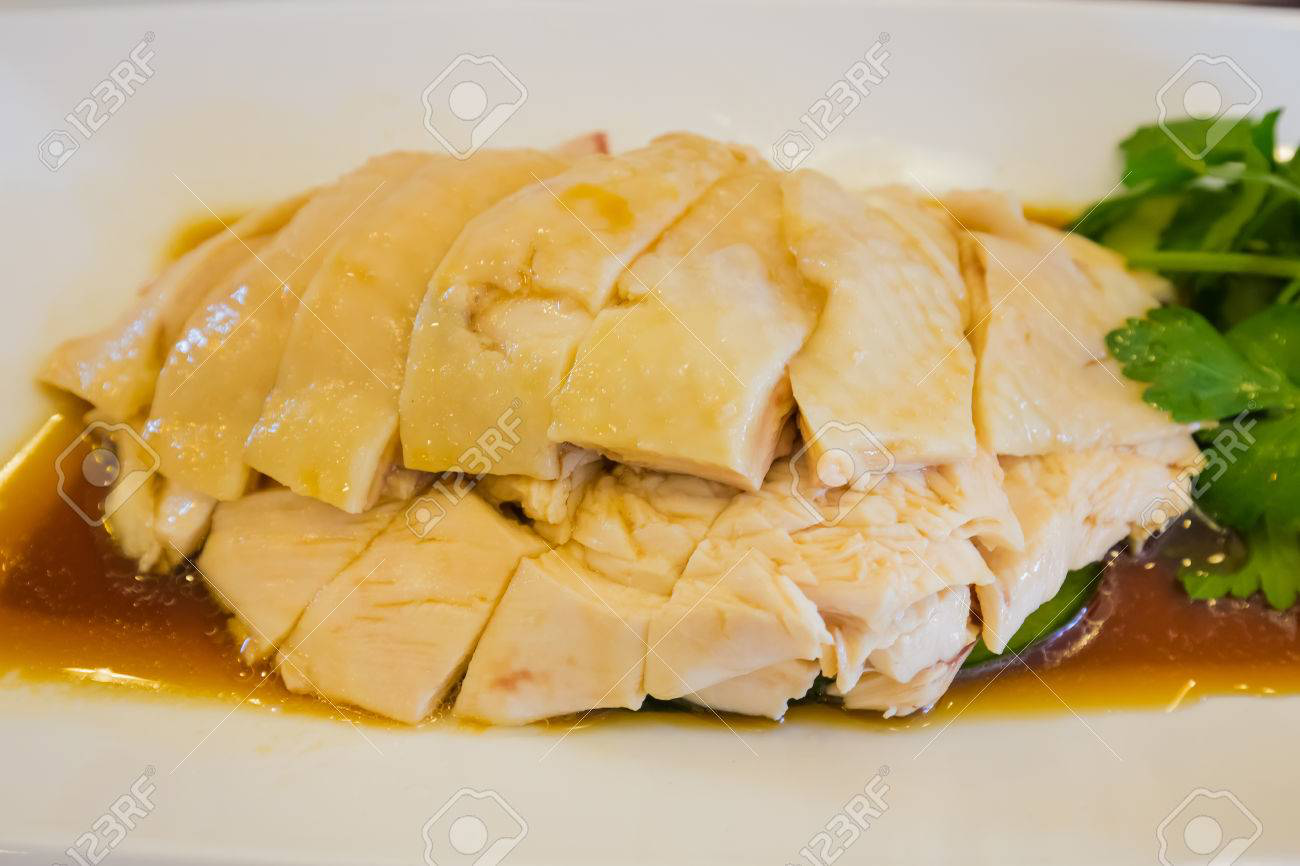Steamed Chicken Rice: (56, 101, 1212, 717)
